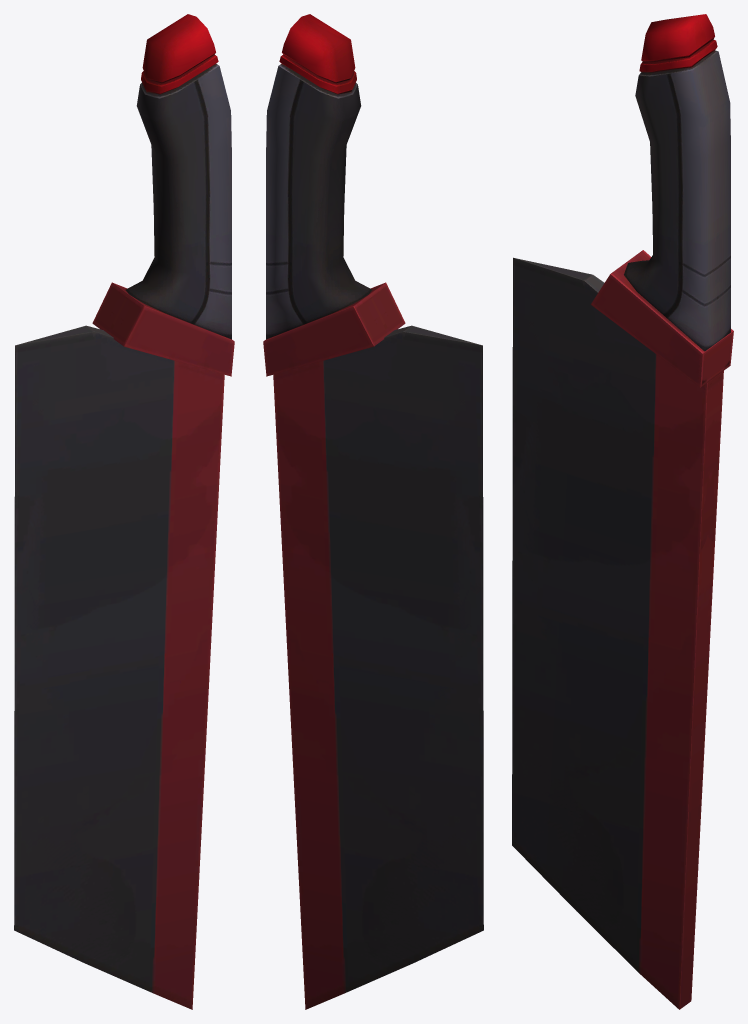
Rendered from Knife02.fbx.
The picture shows the model from 3 angles, left to right: view 1: azimuth 30°, elevation 25°; view 2: azimuth 150°, elevation 25°; view 3: azimuth 330°, elevation 25°; orthographic projection.
Parts seen in each view (by area): view 1: Garde_low2; view 2: Garde_low2; view 3: Garde_low2.
Boxes of the visible parts, bbox=[...] form: Garde_low2: bbox=[14, 14, 234, 1009]; Garde_low2: bbox=[263, 14, 483, 1009]; Garde_low2: bbox=[512, 14, 733, 1009].
Bounding box in the file's own units: 1.97 × 0.544 × 9.04.
